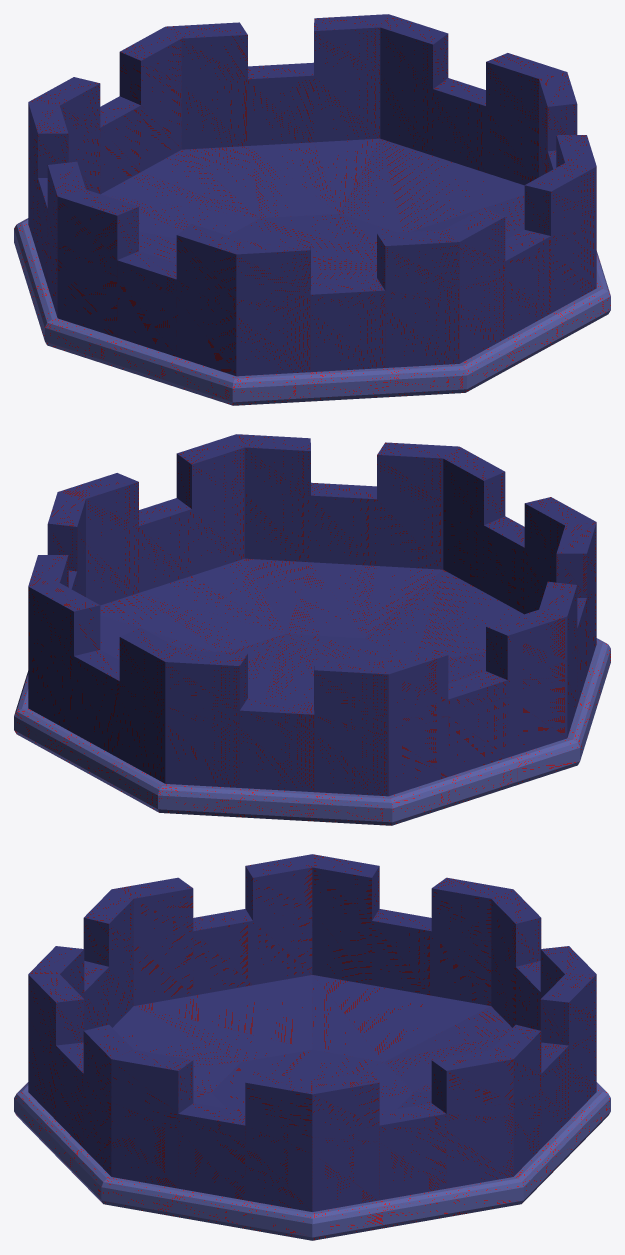
File: tower_top_001_msh.fbx
3 views of the same model, one above another, from view 1: azimuth 30°, elevation 25°; view 2: azimuth 150°, elevation 25°; view 3: azimuth 270°, elevation 25° (orthographic). The views are drawn at different scales.
Visible parts, largest first — view 1: tower_top_001_msh; view 2: tower_top_001_msh; view 3: tower_top_001_msh.
Part boxes in pixels (bbox=[...]): tower_top_001_msh: bbox=[14, 14, 610, 405]; tower_top_001_msh: bbox=[14, 434, 610, 825]; tower_top_001_msh: bbox=[14, 854, 610, 1240].
Bounding box in the file's own units: 378 × 100 × 378.
